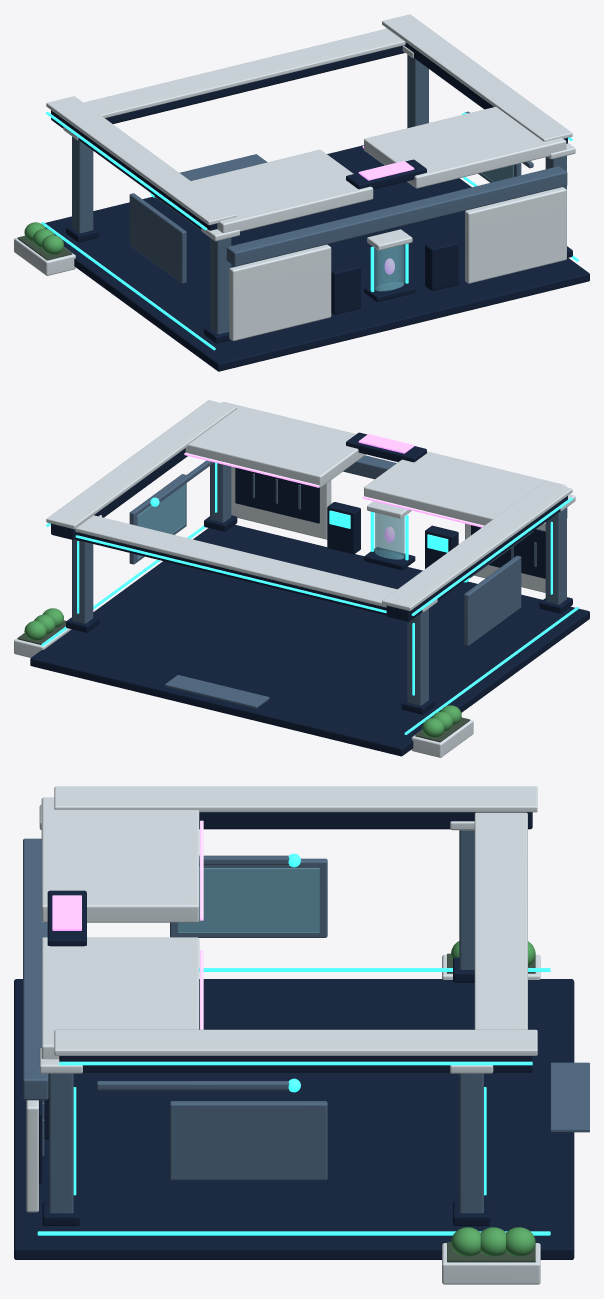
The model's file is LAB_Tier_2.glb.
The picture shows the model from 3 angles, top to bottom: view 1: azimuth 30°, elevation 25°; view 2: azimuth 150°, elevation 25°; view 3: azimuth 270°, elevation 25°; orthographic projection. The views are drawn at different scales.
Parts seen in each view (by area): view 1: LAB_Floor_Fascia.001, LAB_Roof_Back_R.001, LAB_Roof_Back_L.001, LAB_Wall_Straight_L.001, LAB_Wall_Straight_R.001, LAB_Back_Header.001, LAB_Entrance_HeaderCap.001, LAB_Roof_BeamCap_L.001, LAB_Roof_BeamCap_R.001, LAB_Window_Frame_L.001, LAB_Entrance_Header.001, LAB_Pillar_L_-9.001 (+16 smaller); view 2: LAB_Floor_Fascia.001, LAB_Roof_Back_R.001, LAB_Roof_Back_L.001, LAB_Entrance_HeaderCap.001, LAB_Roof_BeamCap_L.001, LAB_Roof_BeamCap_R.001, LAB_Window_Frame_L.001, LAB_Wall_Inset_R.001, LAB_Window_Frame_R.001, LAB_Wall_Straight_R.001, LAB_Entrance_Header.001, LAB_Pillar_L_-9.001 (+21 smaller); view 3: LAB_Floor_Fascia.001, LAB_Roof_Back_L.001, LAB_Roof_Back_R.001, LAB_Roof_BeamCap_R.001, LAB_Window_Frame_R.001, LAB_Roof_BeamCap_L.001, LAB_Entrance_HeaderCap.001, LAB_Window_Frame_L.001, LAB_GlassPanel_L.001, LAB_Roof_Beam_R.001, LAB_Back_Header.001, LAB_Roof_Beam_L.001 (+19 smaller).
Part boxes in pixels (x1,y1,x2,y2): LAB_Floor_Fascia.001: (45,145,589,371); LAB_Roof_Back_R.001: (364,106,566,188); LAB_Roof_Back_L.001: (191,149,373,233); LAB_Wall_Straight_L.001: (229,244,331,340); LAB_Wall_Straight_R.001: (465,187,566,283); LAB_Back_Header.001: (226,166,567,266); LAB_Entrance_HeaderCap.001: (84,28,405,118); LAB_Roof_BeamCap_L.001: (46,96,236,225); LAB_Roof_BeamCap_R.001: (382,14,572,141); LAB_Window_Frame_L.001: (129,193,186,283); LAB_Entrance_Header.001: (105,45,404,123); LAB_Pillar_L_-9.001: (72,136,93,233); LAB_Floor_Fascia.001: (30,524,589,756); LAB_Roof_Back_R.001: (185,402,365,487); LAB_Roof_Back_L.001: (364,451,566,525); LAB_Entrance_HeaderCap.001: (75,515,396,607); LAB_Roof_BeamCap_L.001: (382,482,572,610); LAB_Roof_BeamCap_R.001: (46,400,236,529); LAB_Window_Frame_L.001: (464,555,521,645); LAB_Wall_Inset_R.001: (235,467,319,523); LAB_Window_Frame_R.001: (129,474,186,564); LAB_Wall_Straight_R.001: (231,466,331,539); LAB_Entrance_Header.001: (75,532,386,615); LAB_Pillar_L_-9.001: (407,609,428,705); LAB_Floor_Fascia.001: (14,979,574,1259); LAB_Roof_Back_L.001: (41,797,199,922); LAB_Roof_Back_R.001: (41,937,199,1059); LAB_Roof_BeamCap_R.001: (54,1029,537,1055); LAB_Window_Frame_R.001: (170,1101,327,1180); LAB_Roof_BeamCap_L.001: (54,786,537,812); LAB_Entrance_HeaderCap.001: (474,812,527,1029); LAB_Window_Frame_L.001: (170,858,327,937); LAB_GlassPanel_L.001: (177,868,319,932); LAB_Roof_Beam_R.001: (59,1056,532,1072); LAB_Back_Header.001: (23,838,48,1100); LAB_Roof_Beam_L.001: (199,812,532,829).
Bounding box in the file's own units: 37.2 × 12.22 × 29.2.
